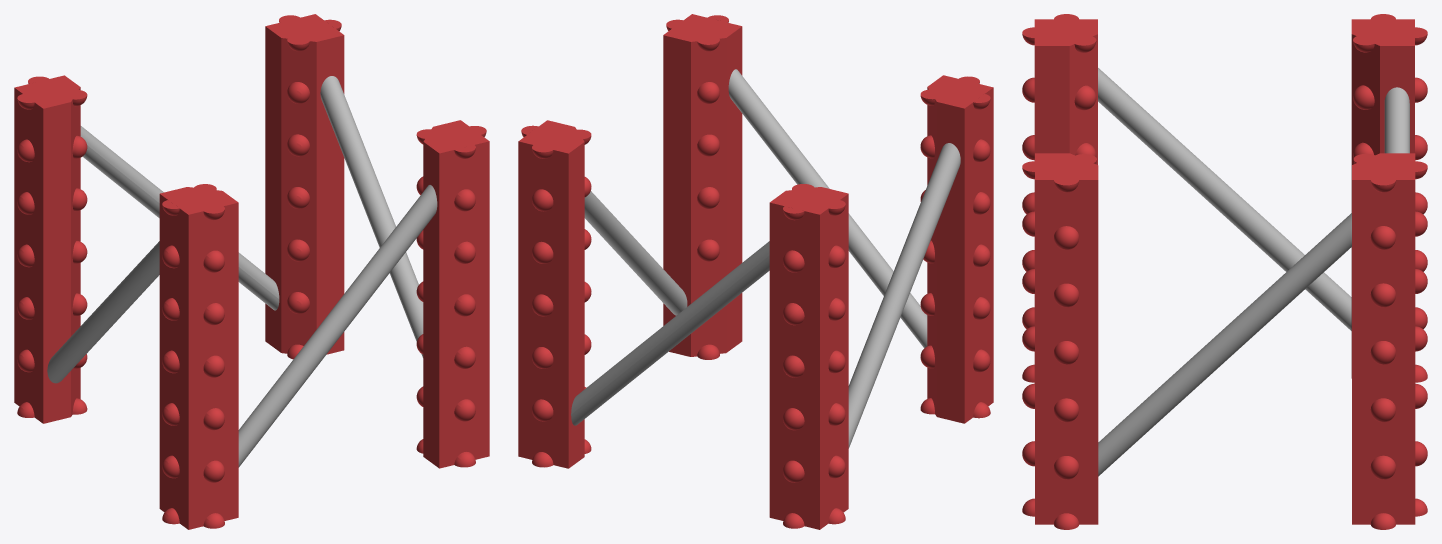
The model's file is beam_rivets.fbx.
3 renders of one model, left to right at view 1: azimuth 30°, elevation 25°; view 2: azimuth 150°, elevation 25°; view 3: azimuth 270°, elevation 25°, orthographic. The views are drawn at different scales.
Visible parts, largest first — view 1: Cylinder.001; view 2: Cylinder.001; view 3: Cylinder.001.
Part boxes in pixels (x1=…): Cylinder.001: x1=14, y1=14, x2=489, y2=529; Cylinder.001: x1=518, y1=14, x2=993, y2=529; Cylinder.001: x1=1022, y1=14, x2=1427, y2=529.
Bounding box in the file's own units: 320 × 300 × 320.
